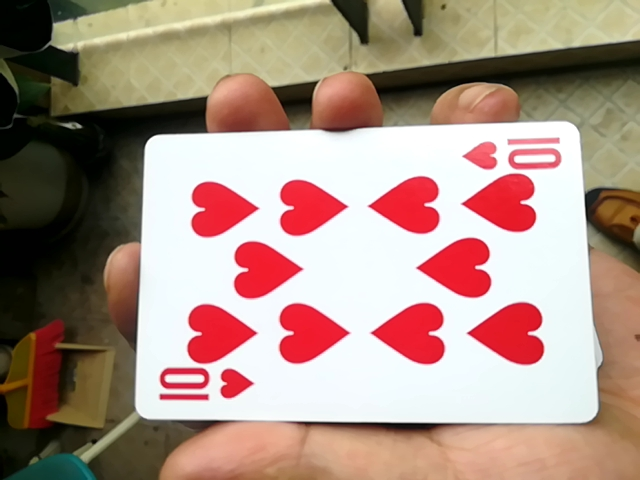hx 10: (125, 128, 588, 437)
